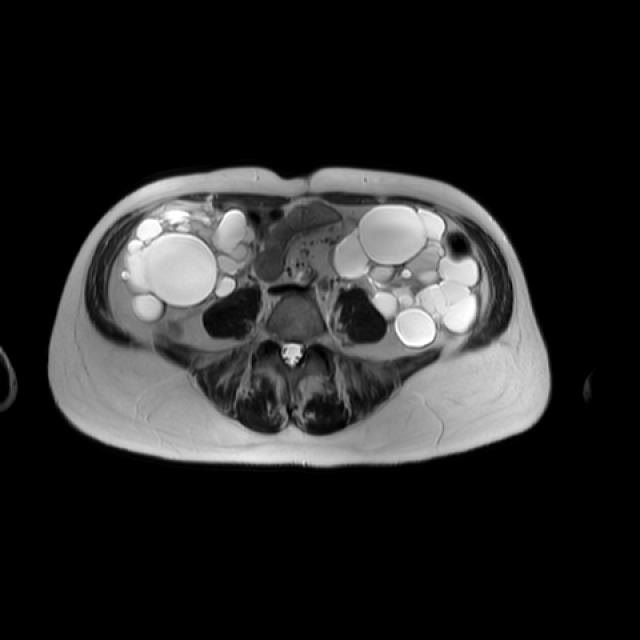sag: (125, 207, 258, 323)
sol: (335, 205, 480, 350)
